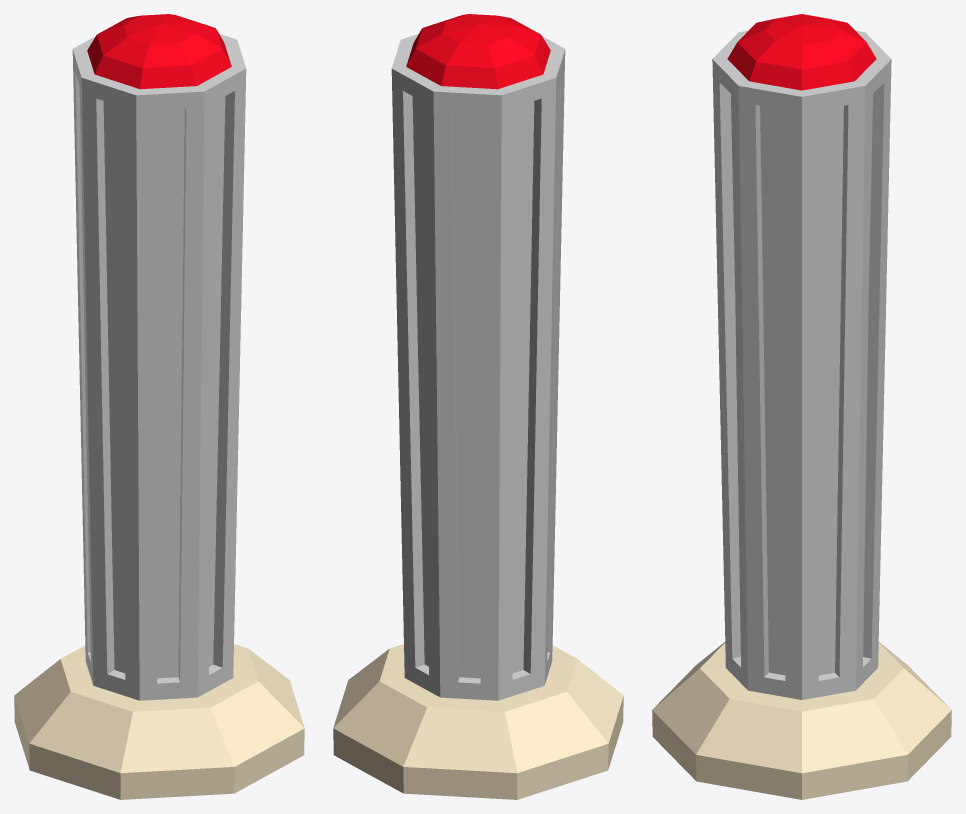
File: buton.fbx
The picture shows the model from 3 angles, left to right: view 1: azimuth 30°, elevation 25°; view 2: azimuth 150°, elevation 25°; view 3: azimuth 270°, elevation 25°; orthographic projection.
Visible parts, largest first — view 1: Cylinder, Sphere; view 2: Cylinder, Sphere; view 3: Cylinder, Sphere.
Boxes of the visible parts, bbox=[...] form: Cylinder: bbox=[14, 34, 304, 799]; Sphere: bbox=[87, 14, 231, 89]; Cylinder: bbox=[333, 34, 623, 799]; Sphere: bbox=[406, 14, 550, 89]; Cylinder: bbox=[652, 30, 951, 799]; Sphere: bbox=[727, 14, 876, 90].
Bounding box in the file's own units: 40.16 × 105 × 40.16.
